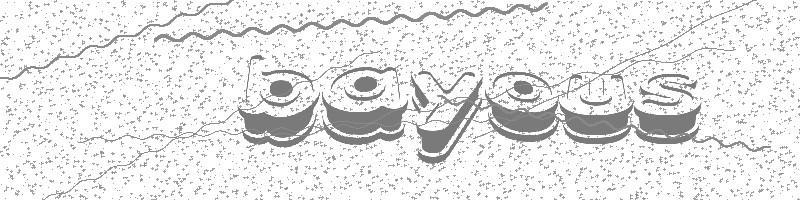a: (323, 67, 407, 144)
b: (238, 56, 319, 146)
o: (486, 72, 559, 142)
s: (635, 74, 702, 144)
u: (561, 75, 632, 142)
y: (412, 72, 481, 163)
